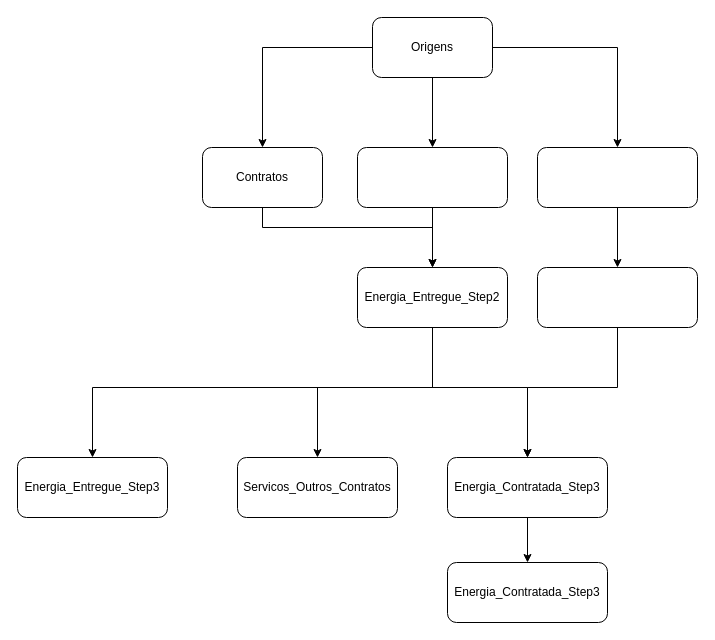
Some shapes in this 715 by 640 pixel diagram are drawn without their labels. Here are the shapes that lost their labels. From the top down, the centre of each, then its label:
(432,177): Energia_Entregue_Step1
(617,177): Energia_Contratada_Step1
(617,297): Energia_Contratada_Step2
